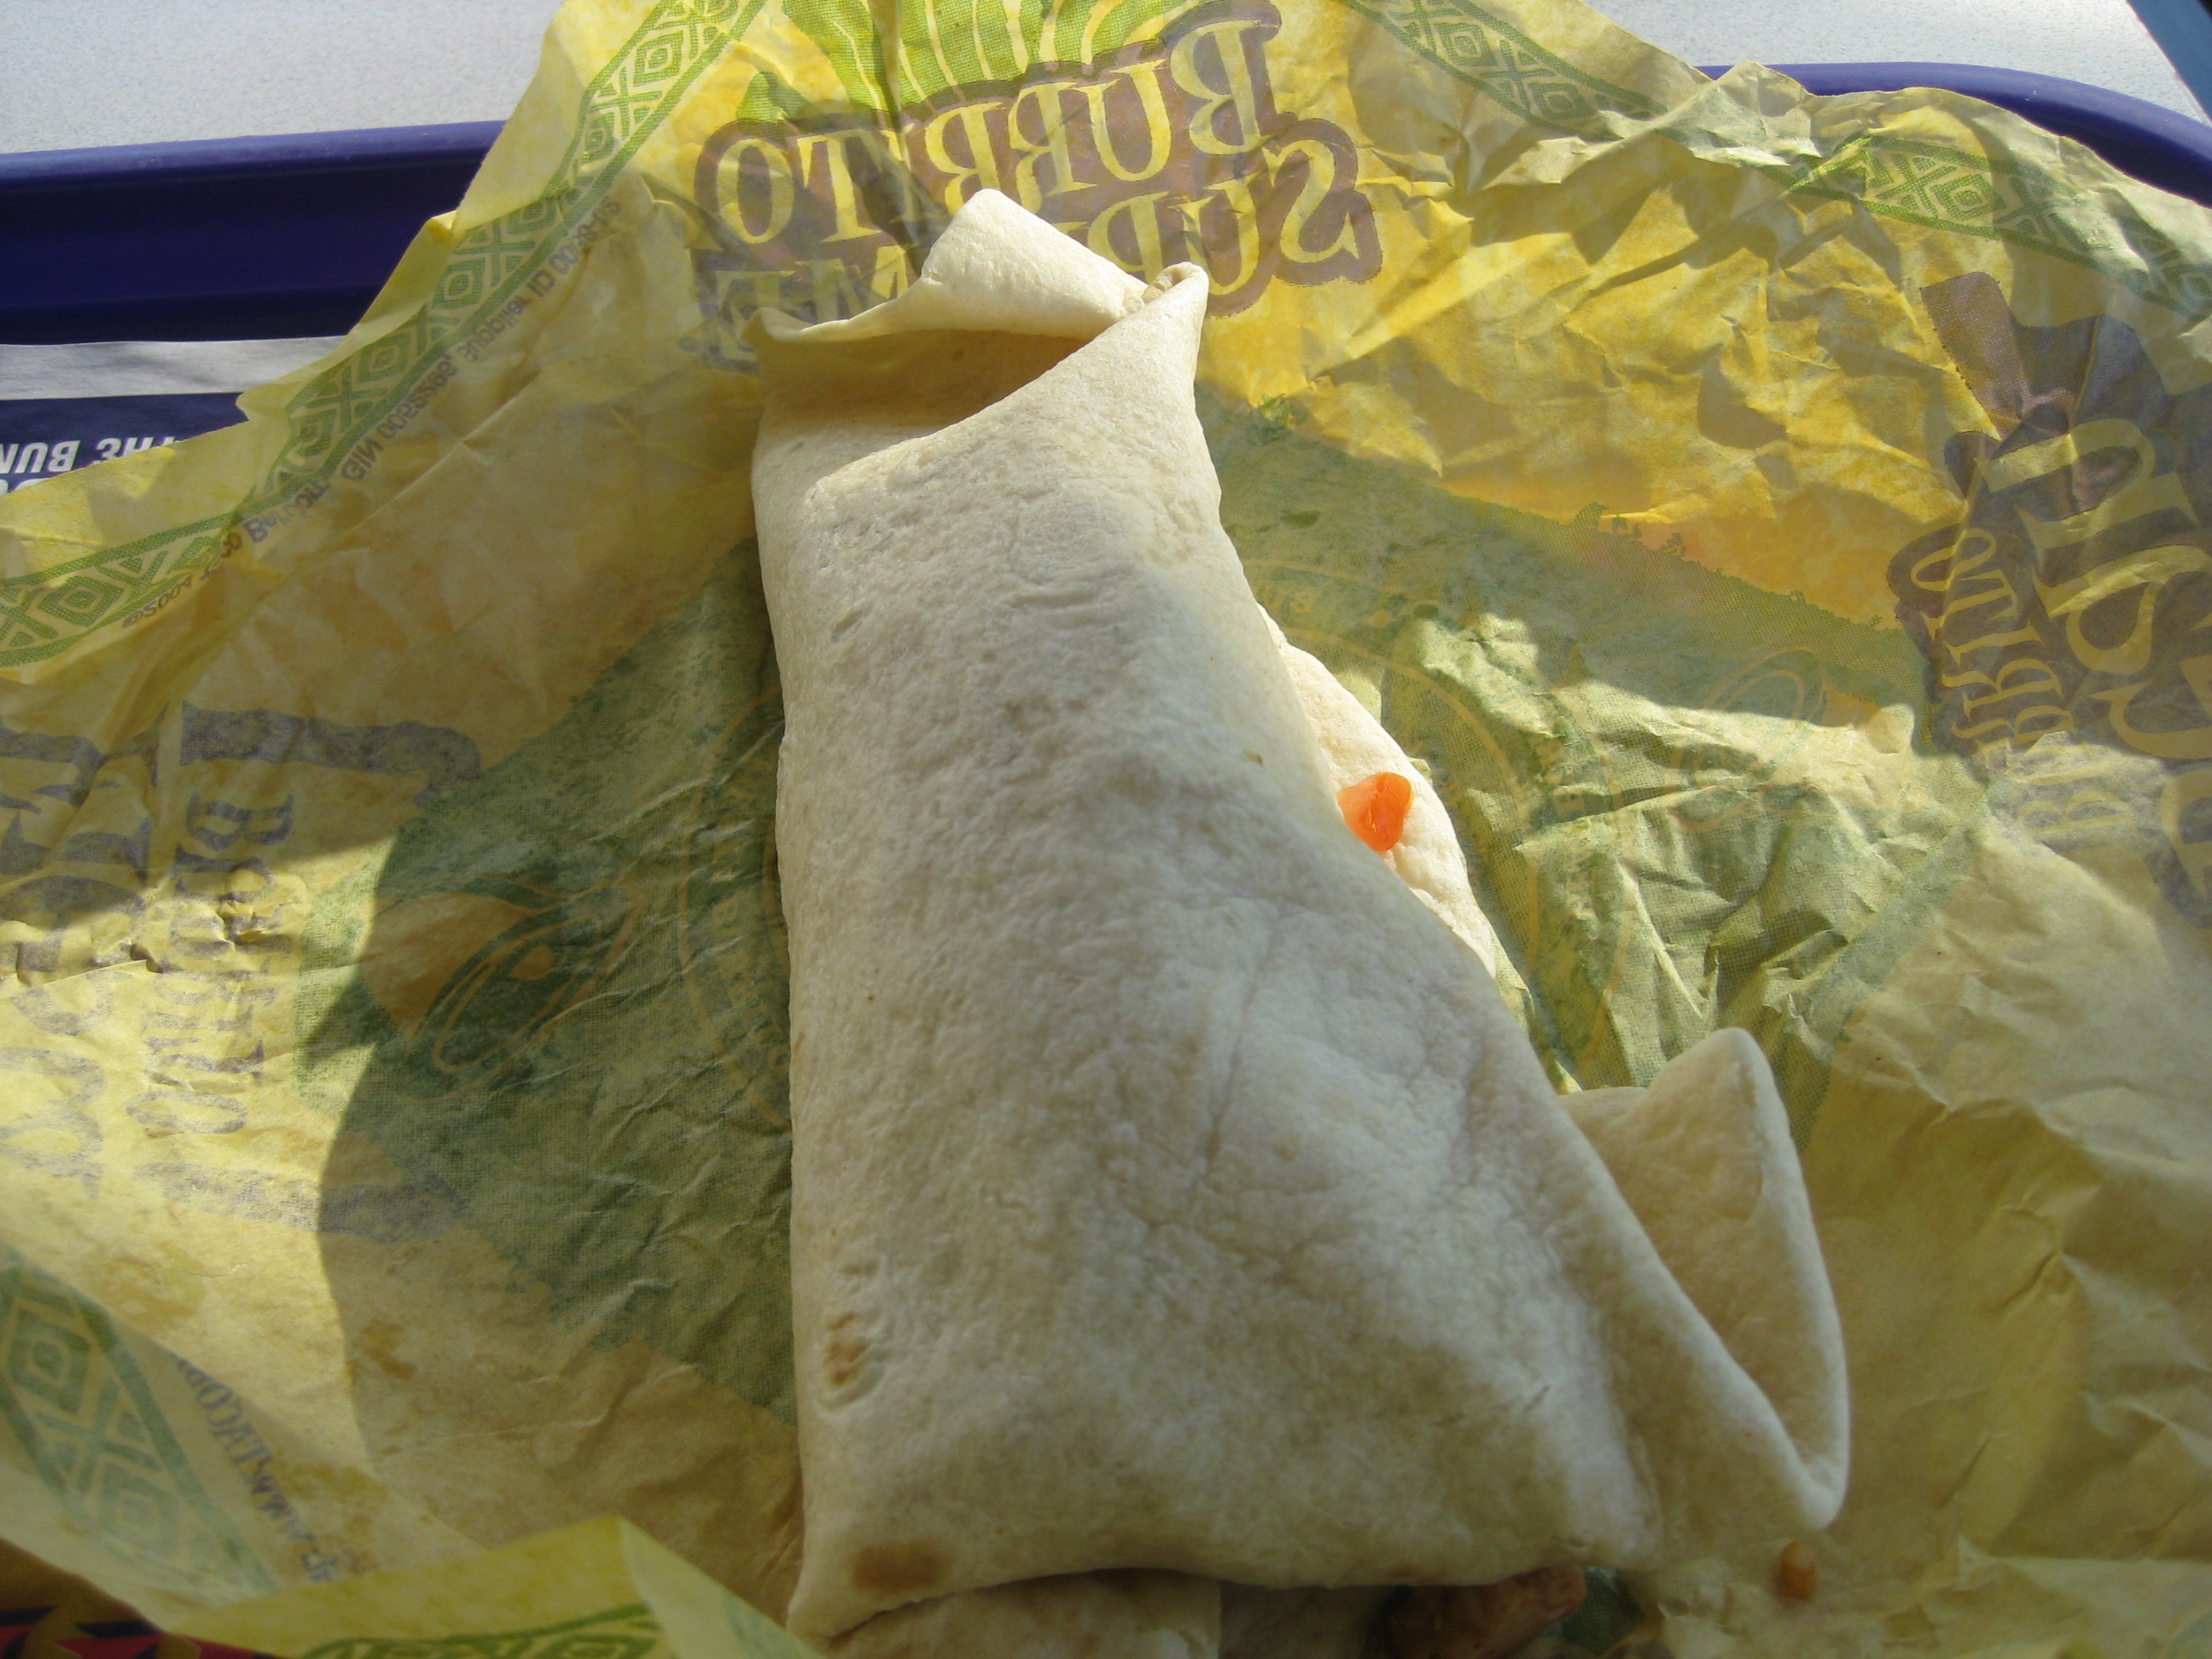burrito: (665, 174, 1913, 1572)
